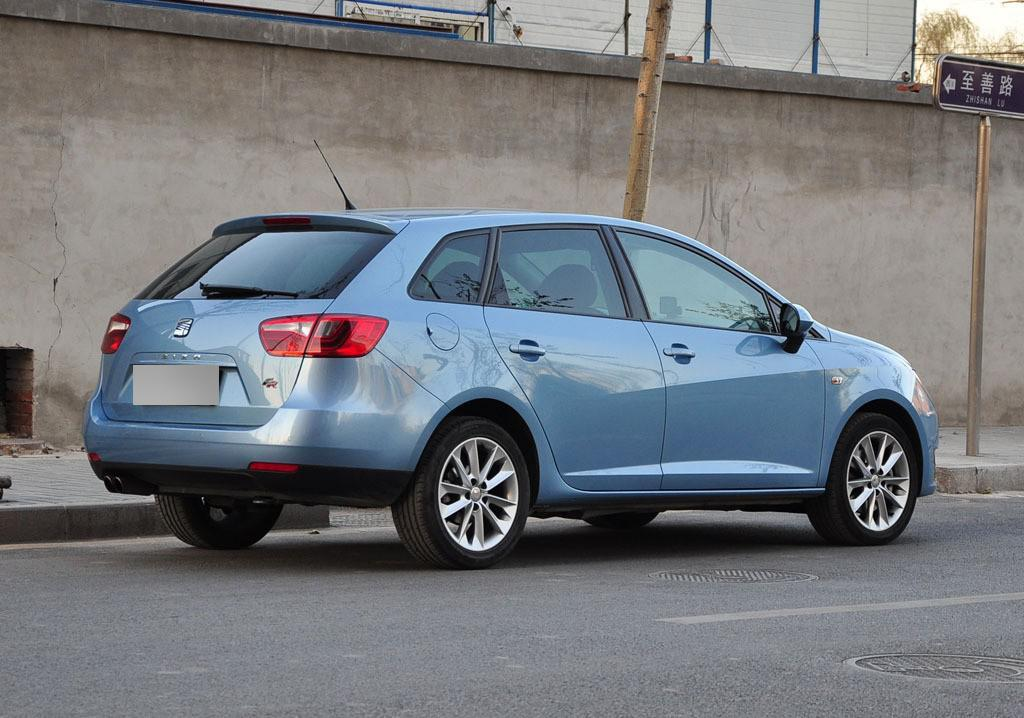Wagon: (83, 209, 937, 569)
